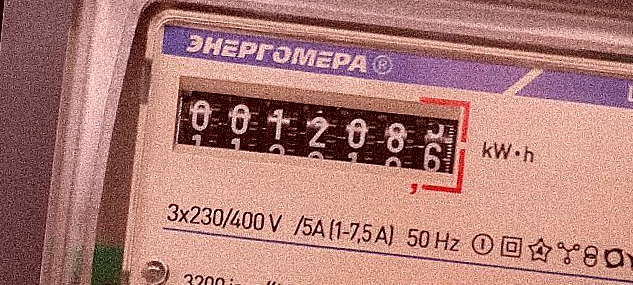0: (342, 113, 371, 150), (226, 98, 252, 137), (188, 94, 212, 133)
1: (267, 104, 287, 142)
2: (303, 112, 332, 150)
6: (418, 136, 445, 174)
8: (381, 118, 407, 156)
screen: (158, 62, 480, 209)
